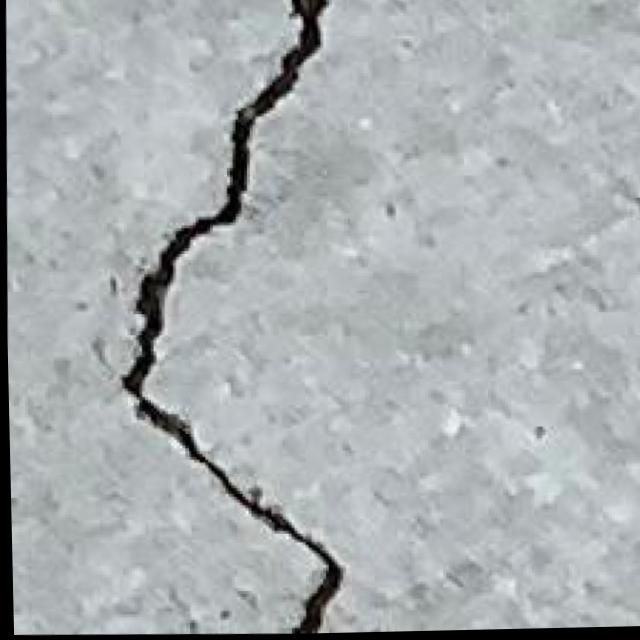Crack: (81, 0, 429, 639)
